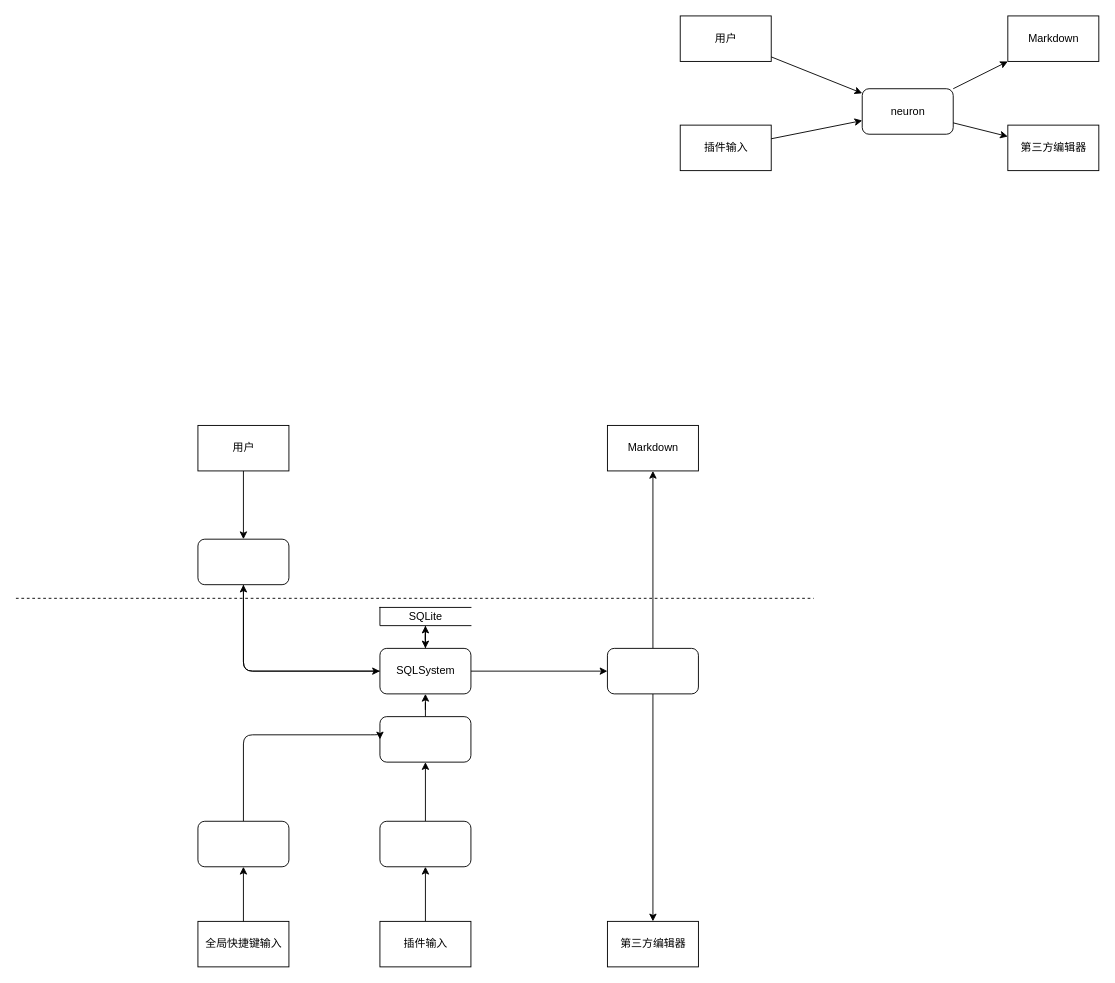
Some shapes in this 1115 by 983 pixel diagram are drawn without their labels. Here are the shapes that lost their labels. From the top down, the centre of each, then its label:
At (x=243, y=561): "editor".
At (x=652, y=670): "serialize".
At (x=425, y=739): "Deserialize".
At (x=243, y=843): "Global keyboard".
At (x=425, y=843): "NodeService".
